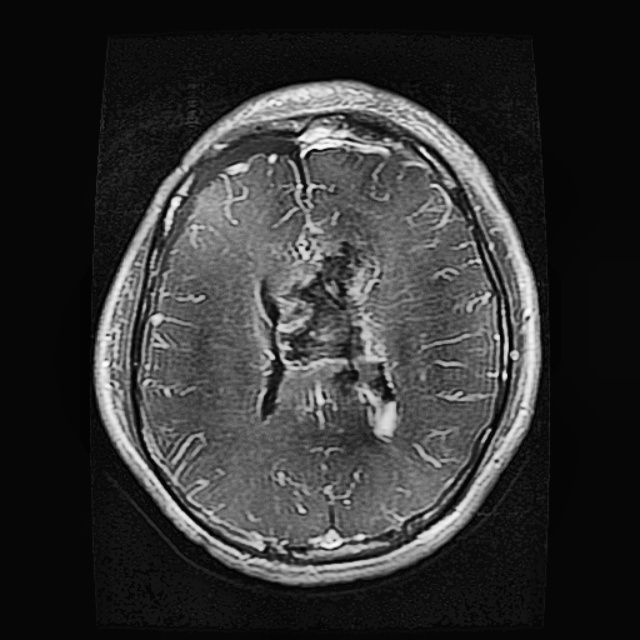Glioma: (244, 240, 400, 437)
